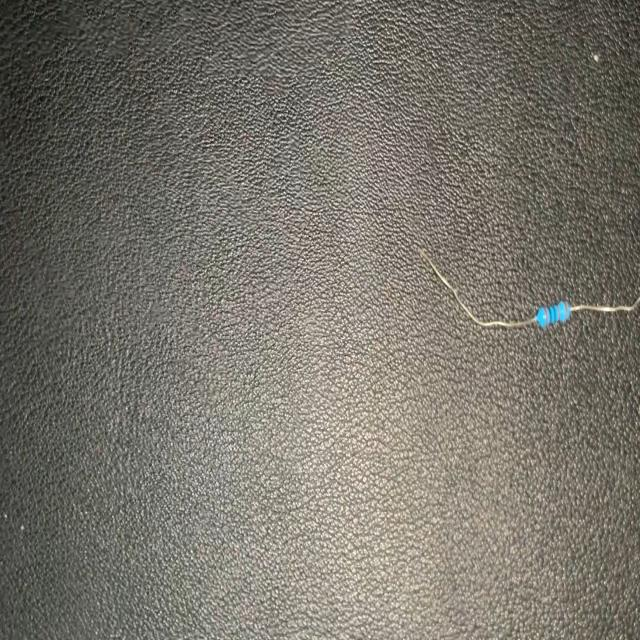resistor: (418, 234, 640, 345)
